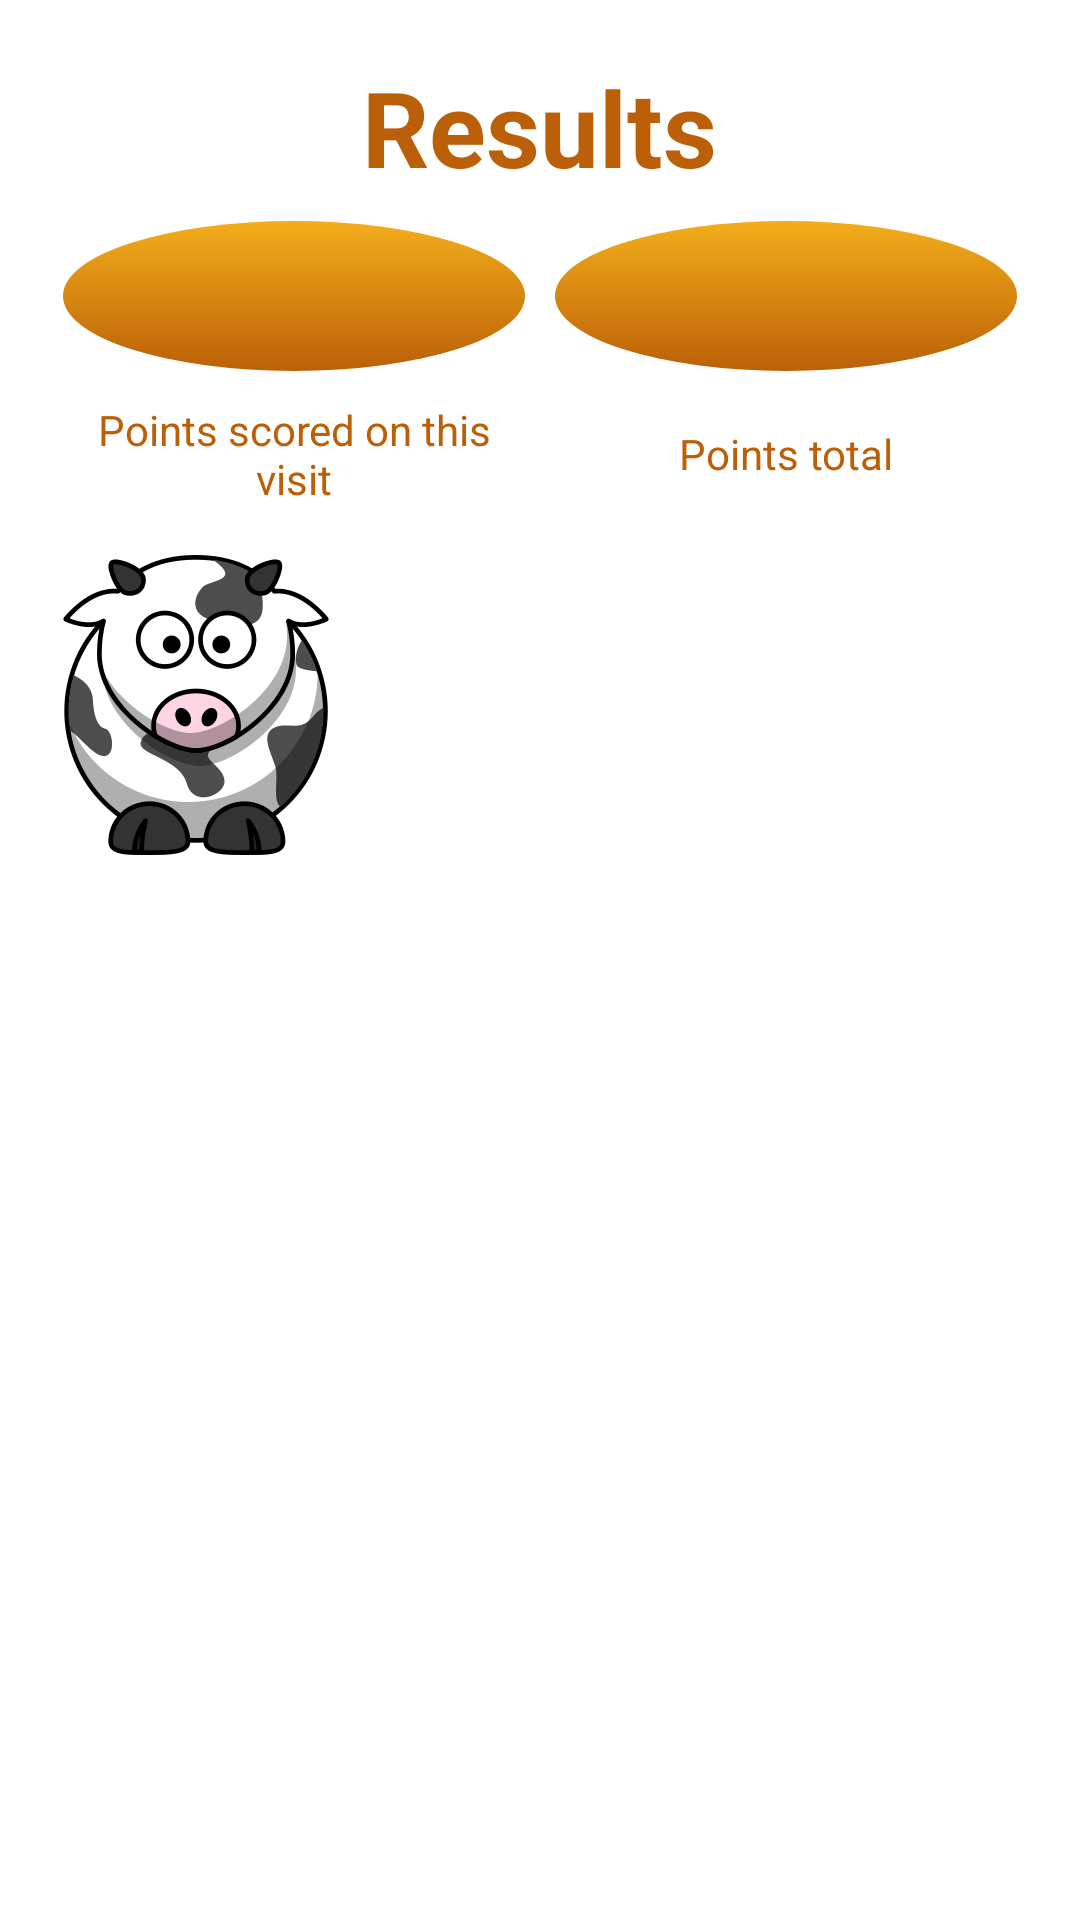

Point at icon controls on the screen. Image size 1080*1920, points as (x,y).
cow: (196,705)
